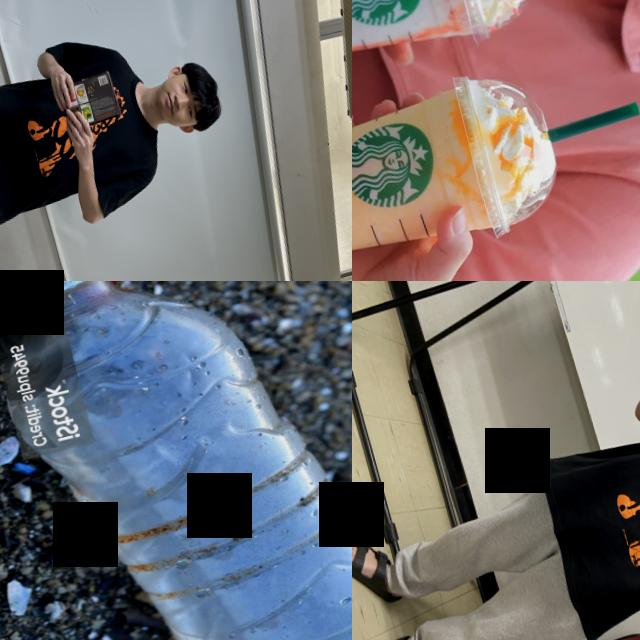cup: (352, 53, 573, 281), (352, 0, 550, 86)
